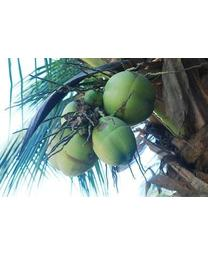coconut: (102, 70, 156, 126), (91, 114, 137, 167), (54, 127, 96, 176)
